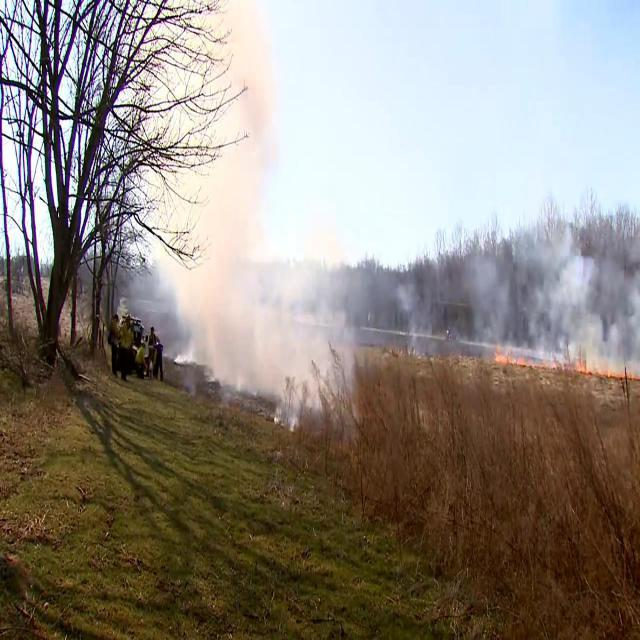Fire: (496, 347, 534, 372), (596, 366, 637, 378), (576, 360, 590, 375)
